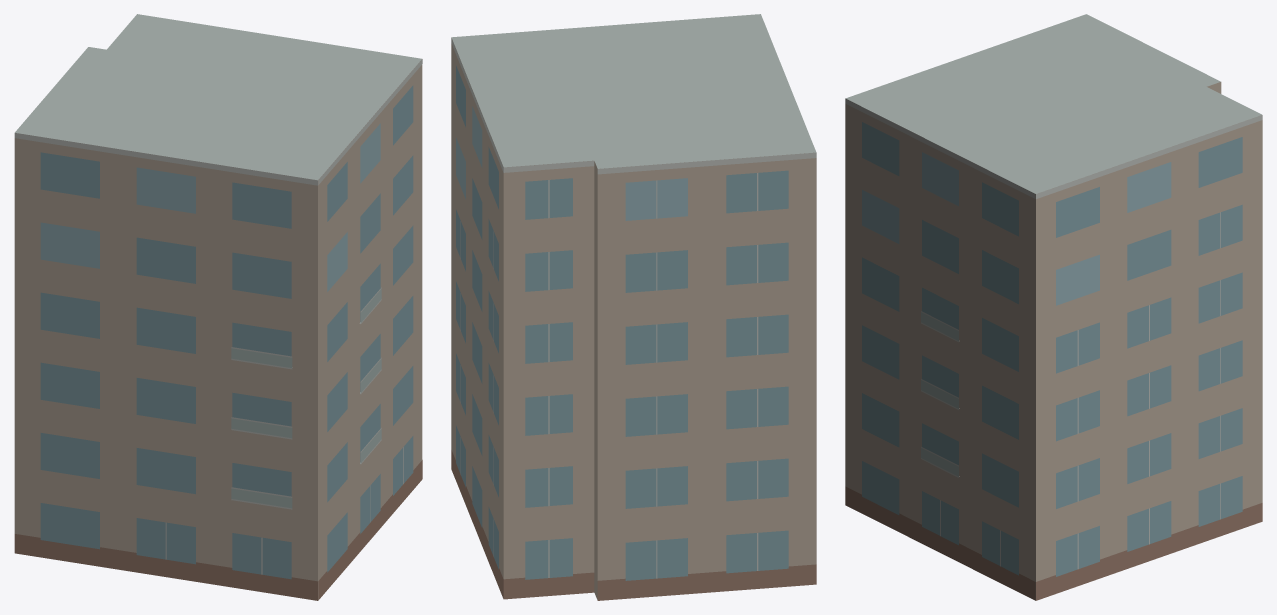
The model's file is survey-upis-32849102.glb.
3 renders of one model, left to right at view 1: azimuth 30°, elevation 25°; view 2: azimuth 150°, elevation 25°; view 3: azimuth 270°, elevation 25°, orthographic. The views are drawn at different scales.
Visible parts, largest first — view 1: survey-upis-32849102.tmp; view 2: survey-upis-32849102.tmp; view 3: survey-upis-32849102.tmp.
Boxes of the visible parts, <box> form: survey-upis-32849102.tmp: <box>14,14,422,600</box>; survey-upis-32849102.tmp: <box>451,14,816,600</box>; survey-upis-32849102.tmp: <box>845,14,1262,600</box>.
Bounding box in the file's own units: 18.15 × 19.1 × 17.76.
